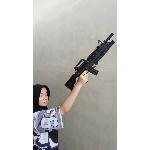Senapan: (61, 32, 117, 94)
